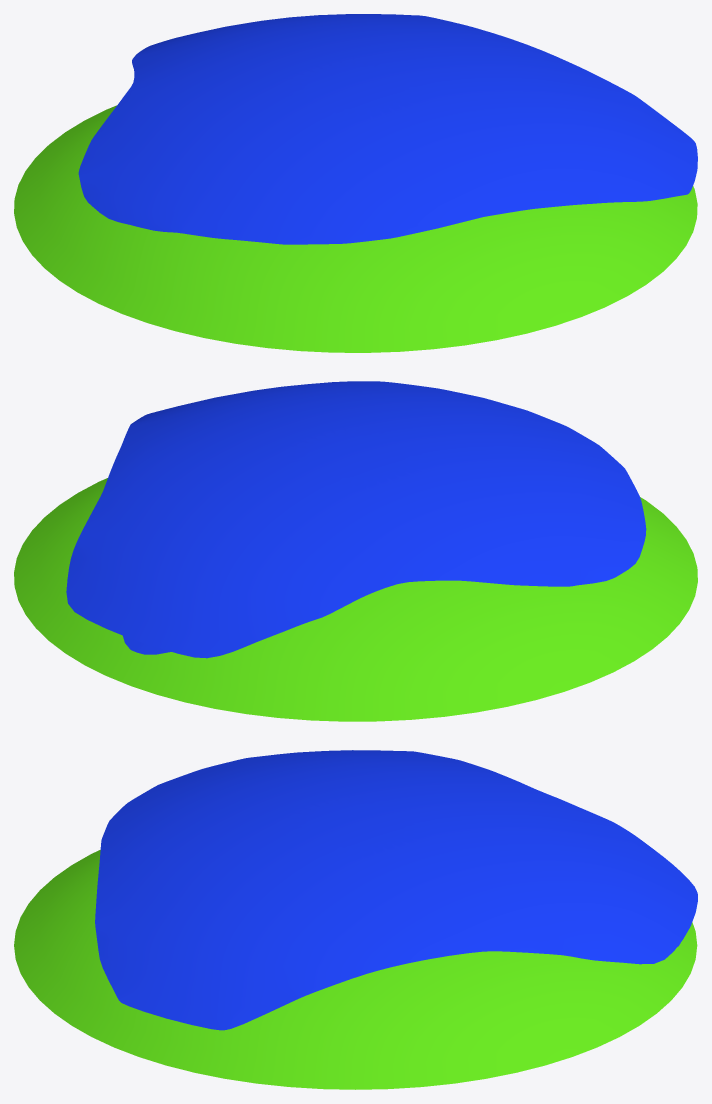
File: Arc.glb
3 views of the same model, one above another, from view 1: azimuth 30°, elevation 25°; view 2: azimuth 150°, elevation 25°; view 3: azimuth 270°, elevation 25° (orthographic).
Visible parts, largest first — view 1: Arc_Level 5, Arc_Level 1; view 2: Arc_Level 5, Arc_Level 1; view 3: Arc_Level 5, Arc_Level 1.
Part boxes in pixels (left/top/right/bottom): Arc_Level 5: left=78, top=14, right=697, bottom=244; Arc_Level 1: left=14, top=105, right=697, bottom=352; Arc_Level 5: left=66, top=381, right=646, bottom=658; Arc_Level 1: left=14, top=478, right=697, bottom=721; Arc_Level 5: left=95, top=750, right=697, bottom=1030; Arc_Level 1: left=14, top=850, right=697, bottom=1089.
Size of the model in its own units: 14.34 by 2.83 by 14.36.
